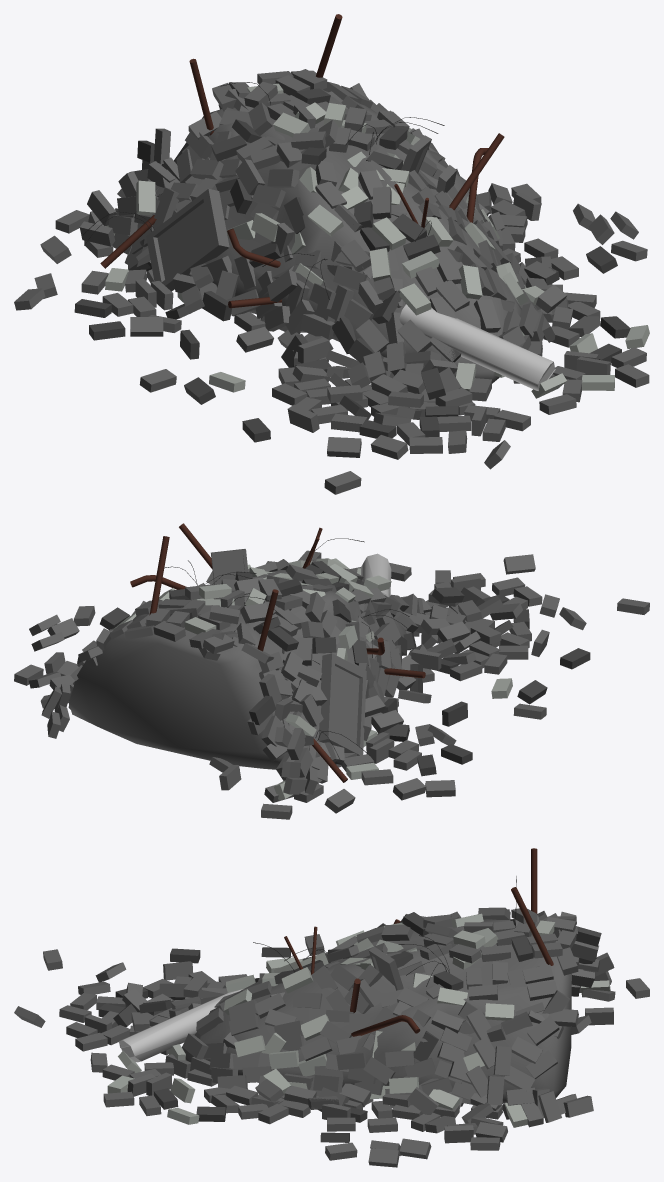
File: destructions.fbx
The picture shows the model from 3 angles, top to bottom: view 1: azimuth 30°, elevation 25°; view 2: azimuth 150°, elevation 25°; view 3: azimuth 270°, elevation 25°; orthographic projection. The views are drawn at different scales.
Visible parts, largest first — view 1: Destucructions; view 2: Destucructions; view 3: Destucructions.
Boxes of the visible parts, <box> form: Destucructions: <box>14,14,649,494</box>; Destucructions: <box>14,523,649,819</box>; Destucructions: <box>14,848,649,1167</box>.
Bounding box in the file's own units: 1628 × 645 × 1881.
Materials: 2 (2 with a texture image).
